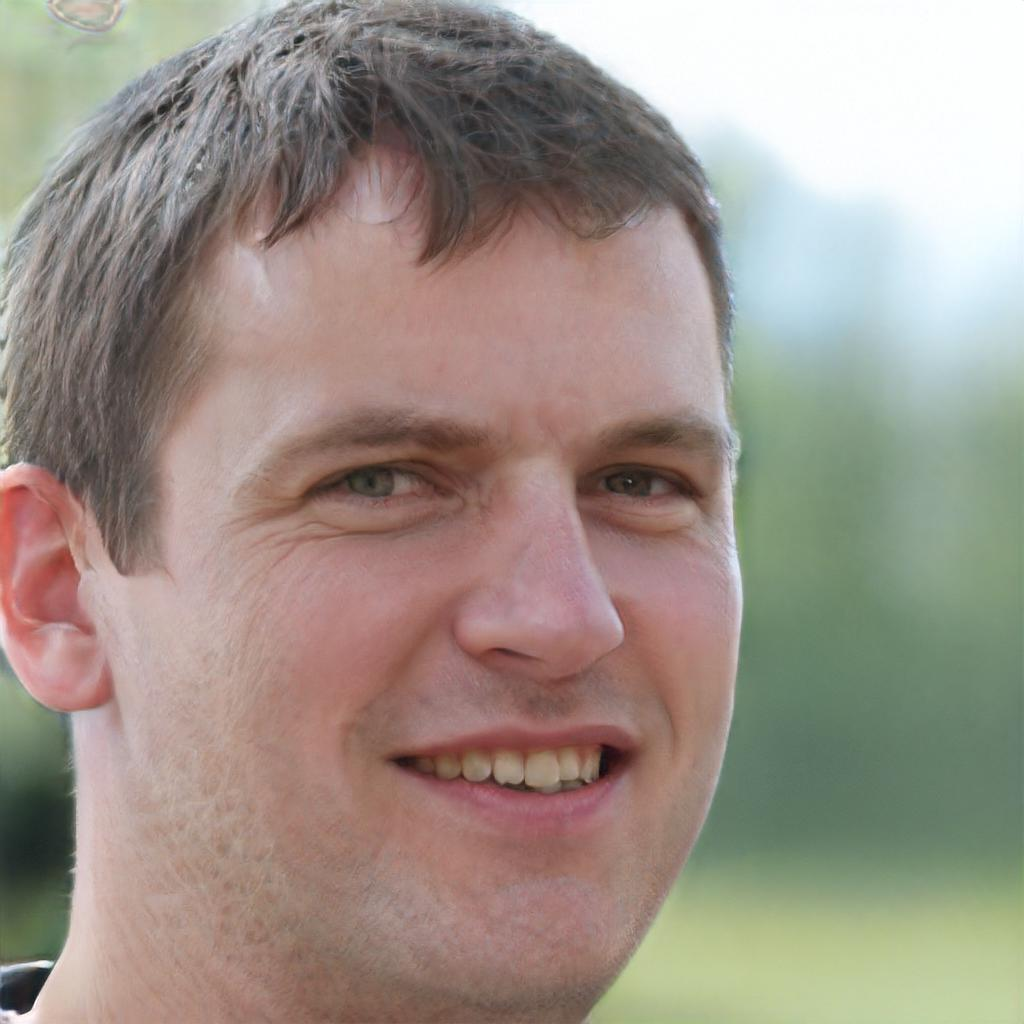face: (112, 171, 743, 998)
